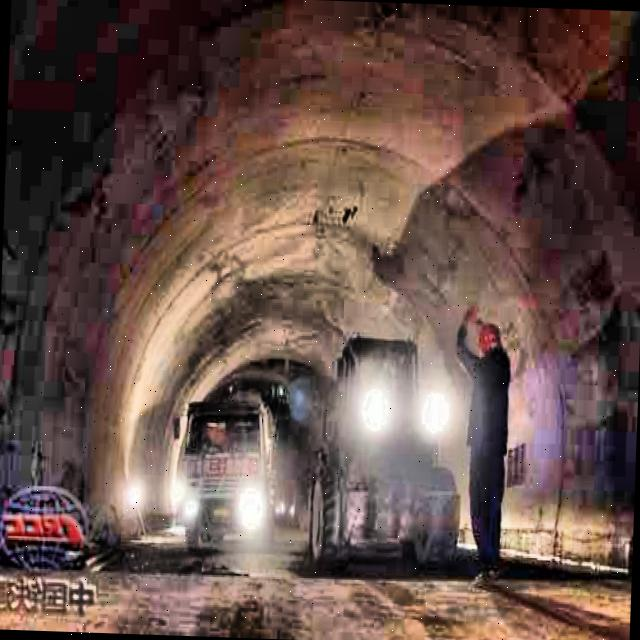helmet: (471, 319, 506, 365)
